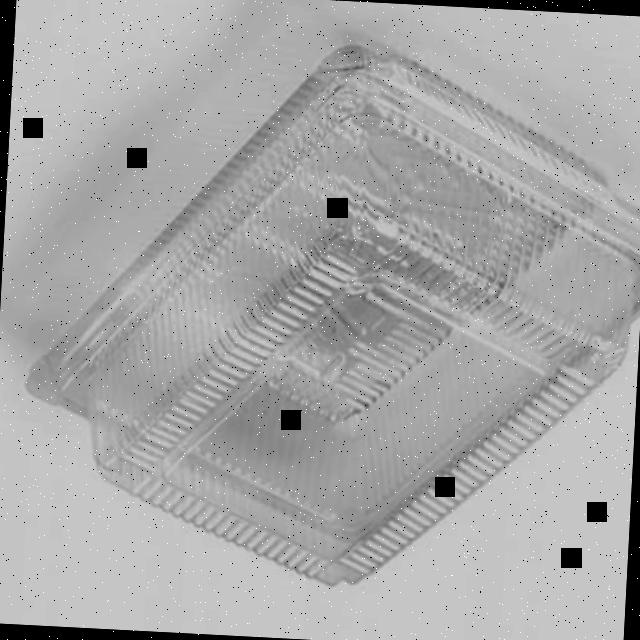plastic_box: (13, 18, 640, 607)
